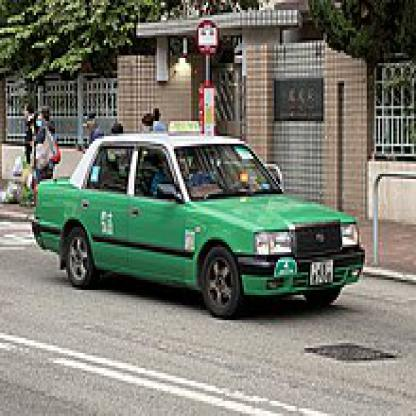taxi: (33, 120, 368, 326)
